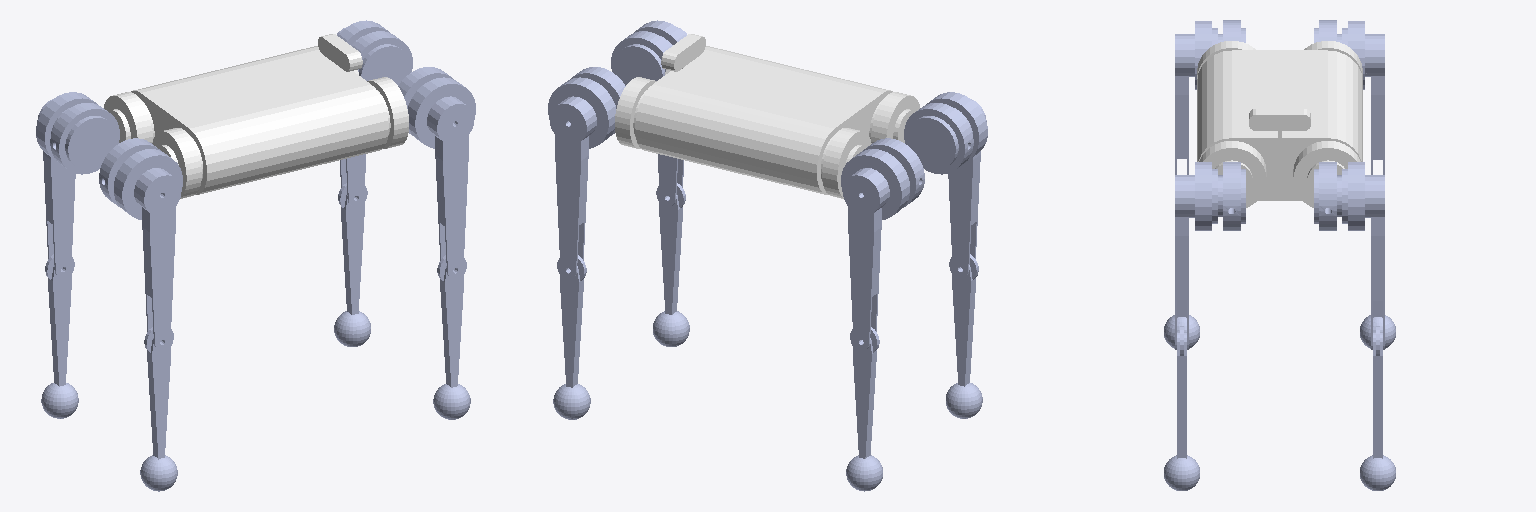
--- Render facts (derived) ---
The picture shows the robot from 3 angles, left to right: view 1: azimuth 30°, elevation 25°; view 2: azimuth 150°, elevation 25°; view 3: azimuth 270°, elevation 25°; orthographic projection.
Robot: quadruped — 18 links, 17 joints (12 continuous, 5 fixed); root link world; default pose: every joint at zero.
Links seen in each view (by area): view 1: base_link, RbL2, RfL2, LbL2, LbL1, LfL1, LfL3, RbL3, RfL3, LbL4, LfL2, LbL3 (+5 smaller); view 2: base_link, LbL2, LfL2, RbL2, RbL1, RfL1, LbL3, RfL3, RbL3, LfL3, RfL2, LfL4 (+5 smaller); view 3: base_link, LfL2, RfL2, LbL2, RbL2, RfL1, LfL1, LfL3, RfL3, RfL4, LfL4, RbL4 (+1 smaller).
Link boxes in pixels (<box>): base_link: <box>104,34,408,198</box>; RbL2: <box>114,149,182,350</box>; RfL2: <box>408,77,475,278</box>; LbL2: <box>36,92,97,277</box>; LbL1: <box>50,103,119,174</box>; LfL1: <box>352,31,412,85</box>; LfL3: <box>334,186,370,346</box>; RbL3: <box>141,330,176,491</box>; RfL3: <box>434,258,469,419</box>; LbL4: <box>41,254,78,409</box>; LfL2: <box>337,20,389,205</box>; LbL3: <box>42,260,77,418</box>; base_link: <box>615,34,919,198</box>; LbL2: <box>841,149,909,350</box>; LfL2: <box>548,77,615,278</box>; RbL2: <box>926,92,987,277</box>; RbL1: <box>904,103,973,174</box>; RfL1: <box>611,31,671,85</box>; LbL3: <box>847,332,882,491</box>; RfL3: <box>653,186,688,346</box>; RbL3: <box>946,259,981,418</box>; LfL3: <box>553,263,589,419</box>; RfL2: <box>634,20,686,205</box>; LfL4: <box>553,255,590,410</box>; base_link: <box>1197,41,1362,207</box>; LfL2: <box>1342,162,1384,349</box>; RfL2: <box>1175,162,1217,349</box>; LbL2: <box>1342,21,1384,174</box>; RbL2: <box>1175,21,1217,174</box>; RfL1: <box>1218,162,1245,230</box>; LfL1: <box>1314,162,1341,230</box>; LfL3: <box>1360,350,1395,490</box>; RfL3: <box>1164,350,1199,490</box>; RfL4: <box>1164,326,1199,481</box>; LfL4: <box>1360,326,1395,481</box>; RbL4: <box>1164,315,1199,339</box>.
Bounding box of the posed robot: 0.545 × 0.3142 × 0.519 m (x, y, z).
Meshes: 17 distinct files referenced, 17 mesh visuals loaded (17 binary STL).

URDF robot description (quadruped):
<?xml version="1.0" encoding="utf-8"?>
<!-- This URDF was automatically created by SolidWorks to URDF Exporter! Originally created by Stephen Brawner ([email redacted]) 
     Commit Version: 1.6.0-4-g7f85cfe  Build Version: 1.6.7995.38578
     For more information, please see http://wiki.ros.org/sw_urdf_exporter -->
<robot
  name="quadruped">
  <link
    name="base_link">
    <inertial>
      <origin
        xyz="0.00084087 -3.4694E-18 0.0034489"
        rpy="0 0 0" />
      <mass
        value="6.2588" />
      <inertia
        ixx="0.023799"
        ixy="-4.539E-19"
        ixz="-0.0003626"
        iyy="0.040023"
        iyz="9.0186E-20"
        izz="0.055397" />
    </inertial>
    <visual>
      <origin
        xyz="0 0 0"
        rpy="0 0 0" />
      <geometry>
        <mesh
          filename="package://quadruped/meshes/base_link.STL" />
      </geometry>
      <material
        name="">
        <color
          rgba="1 1 1 1" />
      </material>
    </visual>
    <collision>
      <origin
        xyz="0 0 0"
        rpy="0 0 0" />
      <geometry>
        <mesh
          filename="package://quadruped/meshes/base_link.STL" />
      </geometry>
    </collision>
  </link>
  <link
    name="RfL1">
    <inertial>
      <origin
        xyz="-1.4632E-09 0.0013606 -2.1089E-09"
        rpy="0 0 0" />
      <mass
        value="0.20892" />
      <inertia
        ixx="0.00012633"
        ixy="-2.9159E-11"
        ixz="1.474E-11"
        iyy="0.00020677"
        iyz="3.0595E-13"
        izz="0.00012096" />
    </inertial>
    <visual>
      <origin
        xyz="0 0 0"
        rpy="0 0 0" />
      <geometry>
        <mesh
          filename="package://quadruped/meshes/RfL1.STL" />
      </geometry>
      <material
        name="">
        <color
          rgba="0.79216 0.81961 0.93333 1" />
      </material>
    </visual>
    <collision>
      <origin
        xyz="0 0 0"
        rpy="0 0 0" />
      <geometry>
        <mesh
          filename="package://quadruped/meshes/RfL1.STL" />
      </geometry>
    </collision>
  </link>
  <joint
    name="RfJ1"
    type="continuous">
    <origin
      xyz="0.2255 -0.065 0.003"
      rpy="0 0 0" />
    <parent
      link="base_link" />
    <child
      link="RfL1" />
    <axis
      xyz="1 0 0" />
          <limit
      lower="-6"
      upper="6"
      effort="100"
      velocity="10" />
                 <dynamics
      damping="0.01"
      friction="0.01"
    />
  </joint>
  <link
    name="RfL2">
    <inertial>
      <origin
        xyz="-4.3615E-06 0.017625 -0.026198"
        rpy="0 0 0" />
      <mass
        value="0.03684" />
      <inertia
        ixx="0.00011211"
        ixy="-2.832E-09"
        ixz="-1.957E-08"
        iyy="0.00011432"
        iyz="-1.701E-05"
        izz="2.3445E-05" />
    </inertial>
    <visual>
      <origin
        xyz="0 0 0"
        rpy="0 0 0" />
      <geometry>
        <mesh
          filename="package://quadruped/meshes/RfL2.STL" />
      </geometry>
      <material
        name="">
        <color
          rgba="0.79216 0.81961 0.93333 1" />
      </material>
    </visual>
    <collision>
      <origin
        xyz="0 0 0"
        rpy="0 0 0" />
      <geometry>
        <mesh
          filename="package://quadruped/meshes/RfL2.STL" />
      </geometry>
    </collision>
  </link>
  <joint
    name="RfJ2"
    type="continuous">
    <origin
      xyz="0 -0.06725 0"
      rpy="0 0 0" />
    <parent
      link="RfL1" />
    <child
      link="RfL2" />
    <axis
      xyz="0 1 0" />
          <limit
      lower="-6"
      upper="6"
      effort="100"
      velocity="10" />
                 <dynamics
      damping="0.01"
      friction="0.01"
    />
  </joint>
  <link
    name="RfL3">
    <inertial>
      <origin
        xyz="-8.3225E-05 -1.7847E-14 -0.13449"
        rpy="0 0 0" />
      <mass
        value="0.012147" />
      <inertia
        ixx="6.9843E-05"
        ixy="-5.131E-15"
        ixz="-4.1969E-08"
        iyy="7.0059E-05"
        iyz="-1.6876E-18"
        izz="2.0251E-06" />
    </inertial>
    <visual>
      <origin
        xyz="0 0 0"
        rpy="0 0 0" />
      <geometry>
        <mesh
          filename="package://quadruped/meshes/RfL3.STL" />
      </geometry>
      <material
        name="">
        <color
          rgba="0.79216 0.81961 0.93333 1" />
      </material>
    </visual>
    <collision>
      <origin
        xyz="0 0 0"
        rpy="0 0 0" />
      <geometry>
        <mesh
          filename="package://quadruped/meshes/RfL3.STL" />
      </geometry>
    </collision>
  </link>
  <joint
    name="RfJ3"
    type="continuous">
    <origin
      xyz="0 0 -0.216"
      rpy="0 0 0" />
    <parent
      link="RfL2" />
    <child
      link="RfL3" />
    <axis
      xyz="0 -1 0" />
          <limit
      lower="-6"
      upper="6"
      effort="100"
      velocity="10" />
                 <dynamics
      damping="0.01"
      friction="0.01"
    />
  </joint>
  <link
    name="RfL4">
    <inertial>
      <origin
        xyz="3.8349E-05 -1.7777E-14 0.061968"
        rpy="0 0 0" />
      <mass
        value="0.012147" />
      <inertia
        ixx="6.9843E-05"
        ixy="-5.131E-15"
        ixz="-4.1969E-08"
        iyy="7.0059E-05"
        iyz="-1.6876E-18"
        izz="2.0251E-06" />
    </inertial>
    <visual>
      <origin
        xyz="0 0 0"
        rpy="0 0 0" />
      <geometry>
        <mesh
          filename="package://quadruped/meshes/RfL4.STL" />
      </geometry>
      <material
        name="">
        <color
          rgba="0.79216 0.81961 0.93333 1" />
      </material>
    </visual>
    <collision>
      <origin
        xyz="0 0 0"
        rpy="0 0 0" />
      <geometry>
        <mesh
          filename="package://quadruped/meshes/RfL4.STL" />
      </geometry>
    </collision>
  </link>
  <joint
    name="RfJ4"
    type="fixed">
    <origin
      xyz="-0.00012157 0 -0.19645"
      rpy="0 0 0" />
    <parent
      link="RfL3" />
    <child
      link="RfL4" />
    <axis
      xyz="0 0 0" />
          <limit
      lower="-6"
      upper="6"
      effort="100"
      velocity="10" />
                 <dynamics
      damping="0.01"
      friction="0.01"
    />
  </joint>
  <link
    name="LfL1">
    <inertial>
      <origin
        xyz="-1.4632E-09 -0.0013606 2.1089E-09"
        rpy="0 0 0" />
      <mass
        value="0.20892" />
      <inertia
        ixx="0.00012633"
        ixy="2.9159E-11"
        ixz="-1.474E-11"
        iyy="0.00020677"
        iyz="3.0595E-13"
        izz="0.00012096" />
    </inertial>
    <visual>
      <origin
        xyz="0 0 0"
        rpy="0 0 0" />
      <geometry>
        <mesh
          filename="package://quadruped/meshes/LfL1.STL" />
      </geometry>
      <material
        name="">
        <color
          rgba="0.79216 0.81961 0.93333 1" />
      </material>
    </visual>
    <collision>
      <origin
        xyz="0 0 0"
        rpy="0 0 0" />
      <geometry>
        <mesh
          filename="package://quadruped/meshes/LfL1.STL" />
      </geometry>
    </collision>
  </link>
  <joint
    name="LfJ1"
    type="continuous">
    <origin
      xyz="0.2255 0.065 0.003"
      rpy="0 0 0" />
    <parent
      link="base_link" />
    <child
      link="LfL1" />
    <axis
      xyz="1 0 0" />
          <limit
      lower="-6"
      upper="6"
      effort="100"
      velocity="10" />
                 <dynamics
      damping="0.01"
      friction="0.01"
    />
  </joint>
  <link
    name="LfL2">
    <inertial>
      <origin
        xyz="4.3615E-06 -0.017625 -0.026198"
        rpy="0 0 0" />
      <mass
        value="0.03684" />
      <inertia
        ixx="0.00011211"
        ixy="-2.832E-09"
        ixz="1.957E-08"
        iyy="0.00011432"
        iyz="1.701E-05"
        izz="2.3445E-05" />
    </inertial>
    <visual>
      <origin
        xyz="0 0 0"
        rpy="0 0 0" />
      <geometry>
        <mesh
          filename="package://quadruped/meshes/LfL2.STL" />
      </geometry>
      <material
        name="">
        <color
          rgba="0.79216 0.81961 0.93333 1" />
      </material>
    </visual>
    <collision>
      <origin
        xyz="0 0 0"
        rpy="0 0 0" />
      <geometry>
        <mesh
          filename="package://quadruped/meshes/LfL2.STL" />
      </geometry>
    </collision>
  </link>
  <joint
    name="LfJ2"
    type="continuous">
    <origin
      xyz="0 0.06725 0"
      rpy="0 0 0" />
    <parent
      link="LfL1" />
    <child
      link="LfL2" />
    <axis
      xyz="0 -1 0" />
          <limit
      lower="-6"
      upper="6"
      effort="100"
      velocity="10" />
                 <dynamics
      damping="0.01"
      friction="0.01"
    />
  </joint>
  <link
    name="LfL3">
    <inertial>
      <origin
        xyz="-0.00015249 -3.3556E-14 -0.13449"
        rpy="0 0 0" />
      <mass
        value="0.012147" />
      <inertia
        ixx="6.9843E-05"
        ixy="-5.131E-15"
        ixz="-7.6896E-08"
        iyy="7.0059E-05"
        iyz="-3.551E-18"
        izz="2.0251E-06" />
    </inertial>
    <visual>
      <origin
        xyz="0 0 0"
        rpy="0 0 0" />
      <geometry>
        <mesh
          filename="package://quadruped/meshes/LfL3.STL" />
      </geometry>
      <material
        name="">
        <color
          rgba="0.79216 0.81961 0.93333 1" />
      </material>
    </visual>
    <collision>
      <origin
        xyz="0 0 0"
        rpy="0 0 0" />
      <geometry>
        <mesh
          filename="package://quadruped/meshes/LfL3.STL" />
      </geometry>
    </collision>
  </link>
  <joint
    name="LfJ3"
    type="continuous">
    <origin
      xyz="0 0 -0.216"
      rpy="0 0 0" />
    <parent
      link="LfL2" />
    <child
      link="LfL3" />
    <axis
      xyz="0 1 0" />
          <limit
      lower="-6"
      upper="6"
      effort="100"
      velocity="10" />
                 <dynamics
      damping="0.01"
      friction="0.01"
    />
  </joint>
  <link
    name="LfL4">
    <inertial>
      <origin
        xyz="7.0263E-05 -3.2113E-14 0.061968"
        rpy="0 0 0" />
      <mass
        value="0.012147" />
      <inertia
        ixx="6.9843E-05"
        ixy="-5.131E-15"
        ixz="-7.6896E-08"
        iyy="7.0059E-05"
        iyz="-3.551E-18"
        izz="2.0251E-06" />
    </inertial>
    <visual>
      <origin
        xyz="0 0 0"
        rpy="0 0 0" />
      <geometry>
        <mesh
          filename="package://quadruped/meshes/LfL4.STL" />
      </geometry>
      <material
        name="">
        <color
          rgba="0.79216 0.81961 0.93333 1" />
      </material>
    </visual>
    <collision>
      <origin
        xyz="0 0 0"
        rpy="0 0 0" />
      <geometry>
        <mesh
          filename="package://quadruped/meshes/LfL4.STL" />
      </geometry>
    </collision>
  </link>
  <joint
    name="LfJ4"
    type="fixed">
    <origin
      xyz="-0.00022275 0 -0.19645"
      rpy="0 0 0" />
    <parent
      link="LfL3" />
    <child
      link="LfL4" />
    <axis
      xyz="0 0 0" />
          <limit
      lower="-6"
      upper="6"
      effort="100"
      velocity="10" />
                 <dynamics
      damping="0.01"
      friction="0.01"
    />
  </joint>
  <link
    name="RbL1">
    <inertial>
      <origin
        xyz="1.4632E-09 0.0013606 2.1089E-09"
        rpy="0 0 0" />
      <mass
        value="0.20892" />
      <inertia
        ixx="0.00012633"
        ixy="2.9159E-11"
        ixz="1.474E-11"
        iyy="0.00020677"
        iyz="-3.0595E-13"
        izz="0.00012096" />
    </inertial>
    <visual>
      <origin
        xyz="0 0 0"
        rpy="0 0 0" />
      <geometry>
        <mesh
          filename="package://quadruped/meshes/RbL1.STL" />
      </geometry>
      <material
        name="">
        <color
          rgba="0.79216 0.81961 0.93333 1" />
      </material>
    </visual>
    <collision>
      <origin
        xyz="0 0 0"
        rpy="0 0 0" />
      <geometry>
        <mesh
          filename="package://quadruped/meshes/RbL1.STL" />
      </geometry>
    </collision>
  </link>
  <joint
    name="RbJ1"
    type="continuous">
    <origin
      xyz="-0.2255 -0.065 0.003"
      rpy="0 0 0" />
    <parent
      link="base_link" />
    <child
      link="RbL1" />
    <axis
      xyz="-1 0 0" />
          <limit
      lower="-6"
      upper="6"
      effort="100"
      velocity="10" />
                 <dynamics
      damping="0.01"
      friction="0.01"
    />
  </joint>
  <link
    name="RbL2">
    <inertial>
      <origin
        xyz="-4.3615E-06 0.017625 -0.026198"
        rpy="0 0 0" />
      <mass
        value="0.03684" />
      <inertia
        ixx="0.00011211"
        ixy="-2.832E-09"
        ixz="-1.957E-08"
        iyy="0.00011432"
        iyz="-1.701E-05"
        izz="2.3445E-05" />
    </inertial>
    <visual>
      <origin
        xyz="0 0 0"
        rpy="0 0 0" />
      <geometry>
        <mesh
          filename="package://quadruped/meshes/RbL2.STL" />
      </geometry>
      <material
        name="">
        <color
          rgba="0.79216 0.81961 0.93333 1" />
      </material>
    </visual>
    <collision>
      <origin
        xyz="0 0 0"
        rpy="0 0 0" />
      <geometry>
        <mesh
          filename="package://quadruped/meshes/RbL2.STL" />
      </geometry>
    </collision>
  </link>
  <joint
    name="RbJ2"
    type="continuous">
    <origin
      xyz="0 -0.06725 0"
      rpy="0 0 0" />
    <parent
      link="RbL1" />
    <child
      link="RbL2" />
    <axis
      xyz="0 1 0" />
          <limit
      lower="-6"
      upper="6"
      effort="100"
      velocity="10" />
                 <dynamics
      damping="0.01"
      friction="0.01"
    />
  </joint>
  <link
    name="RbL3">
    <inertial>
      <origin
        xyz="-4.4688E-05 -9.4924E-15 -0.13449"
        rpy="0 0 0" />
      <mass
        value="0.012147" />
      <inertia
        ixx="6.9843E-05"
        ixy="-5.131E-15"
        ixz="-2.2535E-08"
        iyy="7.0059E-05"
        iyz="-8.7351E-19"
        izz="2.025E-06" />
    </inertial>
    <visual>
      <origin
        xyz="0 0 0"
        rpy="0 0 0" />
      <geometry>
        <mesh
          filename="package://quadruped/meshes/RbL3.STL" />
      </geometry>
      <material
        name="">
        <color
          rgba="0.79216 0.81961 0.93333 1" />
      </material>
    </visual>
    <collision>
      <origin
        xyz="0 0 0"
        rpy="0 0 0" />
      <geometry>
        <mesh
          filename="package://quadruped/meshes/RbL3.STL" />
      </geometry>
    </collision>
  </link>
  <joint
    name="RbJ3"
    type="continuous">
    <origin
      xyz="0 0 -0.216"
      rpy="0 0 0" />
    <parent
      link="RbL2" />
    <child
      link="RbL3" />
    <axis
      xyz="0 -1 0" />
          <limit
      lower="-6"
      upper="6"
      effort="100"
      velocity="10" />
                 <dynamics
      damping="0.01"
      friction="0.01"
    />
  </joint>
  <link
    name="RbL4">
    <inertial>
      <origin
        xyz="2.0591E-05 -9.5618E-15 0.061968"
        rpy="0 0 0" />
      <mass
        value="0.012147" />
      <inertia
        ixx="6.9843E-05"
        ixy="-5.131E-15"
        ixz="-2.2535E-08"
        iyy="7.0059E-05"
        iyz="-8.7353E-19"
        izz="2.025E-06" />
    </inertial>
    <visual>
      <origin
        xyz="0 0 0"
        rpy="0 0 0" />
      <geometry>
        <mesh
          filename="package://quadruped/meshes/RbL4.STL" />
      </geometry>
      <material
        name="">
        <color
          rgba="0.79216 0.81961 0.93333 1" />
      </material>
    </visual>
    <collision>
      <origin
        xyz="0 0 0"
        rpy="0 0 0" />
      <geometry>
        <mesh
          filename="package://quadruped/meshes/RbL4.STL" />
      </geometry>
    </collision>
  </link>
  <joint
    name="RbJ4"
    type="fixed">
    <origin
      xyz="-6.528E-05 0 -0.19645"
      rpy="0 0 0" />
    <parent
      link="RbL3" />
    <child
      link="RbL4" />
    <axis
      xyz="0 0 0" />
          <limit
      lower="-6"
      upper="6"
      effort="100"
      velocity="10" />
                 <dynamics
      damping="0.01"
      friction="0.01"
    />
  </joint>
  <link
    name="LbL1">
    <inertial>
      <origin
        xyz="1.4632E-09 -0.0013606 -2.1089E-09"
        rpy="0 0 0" />
      <mass
        value="0.20892" />
      <inertia
        ixx="0.00012633"
        ixy="-2.9159E-11"
        ixz="-1.474E-11"
        iyy="0.00020677"
        iyz="-3.0595E-13"
        izz="0.00012096" />
    </inertial>
    <visual>
      <origin
        xyz="0 0 0"
        rpy="0 0 0" />
      <geometry>
        <mesh
          filename="package://quadruped/meshes/LbL1.STL" />
      </geometry>
      <material
        name="">
        <color
          rgba="0.79216 0.81961 0.93333 1" />
      </material>
    </visual>
    <collision>
      <origin
        xyz="0 0 0"
        rpy="0 0 0" />
      <geometry>
        <mesh
          filename="package://quadruped/meshes/LbL1.STL" />
      </geometry>
    </collision>
  </link>
  <joint
    name="LbJ1"
    type="continuous">
    <origin
      xyz="-0.2255 0.065 0.003"
      rpy="0 0 0" />
    <parent
      link="base_link" />
    <child
      link="LbL1" />
    <axis
      xyz="-1 0 0" />
          <limit
      lower="-6"
      upper="6"
      effort="100"
      velocity="10" />
                 <dynamics
      damping="0.01"
      friction="0.01"
    />
  </joint>
  <link
    name="LbL2">
    <inertial>
      <origin
        xyz="4.3615E-06 -0.017625 -0.026198"
        rpy="0 0 0" />
      <mass
        value="0.03684" />
      <inertia
        ixx="0.00011211"
        ixy="-2.832E-09"
        ixz="1.957E-08"
        iyy="0.00011432"
        iyz="1.701E-05"
        izz="2.3445E-05" />
    </inertial>
    <visual>
      <origin
        xyz="0 0 0"
        rpy="0 0 0" />
      <geometry>
        <mesh
          filename="package://quadruped/meshes/LbL2.STL" />
      </geometry>
      <material
        name="">
        <color
          rgba="0.79216 0.81961 0.93333 1" />
      </material>
    </visual>
    <collision>
      <origin
        xyz="0 0 0"
        rpy="0 0 0" />
      <geometry>
        <mesh
          filename="package://quadruped/meshes/LbL2.STL" />
      </geometry>
    </collision>
  </link>
  <joint
    name="LbJ2"
    type="continuous">
    <origin
      xyz="0 0.06725 0"
      rpy="0 0 0" />
    <parent
      link="LbL1" />
    <child
      link="LbL2" />
    <axis
      xyz="0 -1 0" />
                <limit
      lower="-6"
      upper="6"
      effort="100"
      velocity="10" />
                 <dynamics
      damping="0.01"
      friction="0.01"
    />
  </joint>
  <link
    name="LbL3">
    <inertial>
      <origin
        xyz="0.00011183 2.3037E-14 -0.13449"
        rpy="0 0 0" />
      <mass
        value="0.012147" />
      <inertia
        ixx="6.9843E-05"
        ixy="-5.131E-15"
        ixz="5.6393E-08"
        iyy="7.0059E-05"
        iyz="1.7864E-18"
        izz="2.0251E-06" />
    </inertial>
    <visual>
      <origin
        xyz="0 0 0"
        rpy="0 0 0" />
      <geometry>
        <mesh
          filename="package://quadruped/meshes/LbL3.STL" />
      </geometry>
      <material
        name="">
        <color
          rgba="0.79216 0.81961 0.93333 1" />
      </material>
    </visual>
    <collision>
      <origin
        xyz="0 0 0"
        rpy="0 0 0" />
      <geometry>
        <mesh
          filename="package://quadruped/meshes/LbL3.STL" />
      </geometry>
    </collision>
  </link>
  <joint
    name="LbJ3"
    type="continuous">
    <origin
      xyz="0 0 -0.216"
      rpy="0 0 0" />
    <parent
      link="LbL2" />
    <child
      link="LbL3" />
    <axis
      xyz="0 1 0" />
                <limit
      lower="-6"
      upper="6"
      effort="100"
      velocity="10" />
                 <dynamics
      damping="0.01"
      friction="0.01"
    />
  </joint>
  <link
    name="LbL4">
    <inertial>
      <origin
        xyz="-5.1528E-05 2.4342E-14 0.061968"
        rpy="0 0 0" />
      <mass
        value="0.012147" />
      <inertia
        ixx="6.9843E-05"
        ixy="-5.131E-15"
        ixz="5.6393E-08"
        iyy="7.0059E-05"
        iyz="1.7864E-18"
        izz="2.0251E-06" />
    </inertial>
    <visual>
      <origin
        xyz="0 0 0"
        rpy="0 0 0" />
      <geometry>
        <mesh
          filename="package://quadruped/meshes/LbL4.STL" />
      </geometry>
      <material
        name="">
        <color
          rgba="0.79216 0.81961 0.93333 1" />
      </material>
    </visual>
    <collision>
      <origin
        xyz="0 0 0"
        rpy="0 0 0" />
      <geometry>
        <mesh
          filename="package://quadruped/meshes/LbL4.STL" />
      </geometry>
    </collision>
  </link>
  <joint
    name="LbJ4"
    type="fixed">
    <origin
      xyz="0.00016336 0 -0.19645"
      rpy="0 0 0" />
    <parent
      link="LbL3" />
    <child
      link="LbL4" />
    <axis
      xyz="0 0 0" />
          <limit
      lower="-6"
      upper="6"
      effort="100"
      velocity="10" />
                 <dynamics
      damping="0.01"
      friction="0.01"
    />
  </joint>

<transmission name="trans_RfJ1">
        <type>transmission_interface/SimpleTransmission</type>
        <joint name="RfJ1">
            <hardwareInterface>hardware_interface/EffortJointInterface</hardwareInterface>
        </joint>
        <actuator name="RfJ1_motor">
            <hardwareInterface>hardware_interface/EffortJointInterface</hardwareInterface>
            <mechanicalReduction>1</mechanicalReduction>
        </actuator>
    </transmission>

<transmission name="trans_RfJ2">
        <type>transmission_interface/SimpleTransmission</type>
        <joint name="RfJ2">
            <hardwareInterface>hardware_interface/EffortJointInterface</hardwareInterface>
        </joint>
        <actuator name="RfJ2_motor">
            <hardwareInterface>hardware_interface/EffortJointInterface</hardwareInterface>
            <mechanicalReduction>1</mechanicalReduction>
        </actuator>
    </transmission>

<transmission name="trans_RfJ3">
        <type>transmission_interface/SimpleTransmission</type>
        <joint name="RfJ3">
            <hardwareInterface>hardware_interface/EffortJointInterface</hardwareInterface>
        </joint>
        <actuator name="RfJ3_motor">
            <hardwareInterface>hardware_interface/EffortJointInterface</hardwareInterface>
            <mechanicalReduction>1</mechanicalReduction>
        </actuator>
    </transmission>

<transmission name="trans_RbJ1">
        <type>transmission_interface/SimpleTransmission</type>
        <joint name="RbJ1">
            <hardwareInterface>hardware_interface/EffortJointInterface</hardwareInterface>
        </joint>
        <actuator name="RbJ1_motor">
            <hardwareInterface>hardware_interface/EffortJointInterface</hardwareInterface>
            <mechanicalReduction>1</mechanicalReduction>
        </actuator>
    </transmission>

<transmission name="trans_RbJ2">
        <type>transmission_interface/SimpleTransmission</type>
        <joint name="RbJ2">
            <hardwareInterface>hardware_interface/EffortJointInterface</hardwareInterface>
        </joint>
        <actuator name="RbJ2_motor">
            <hardwareInterface>hardware_interface/EffortJointInterface</hardwareInterface>
            <mechanicalReduction>1</mechanicalReduction>
        </actuator>
    </transmission>

<transmission name="trans_RbJ3">
        <type>transmission_interface/SimpleTransmission</type>
        <joint name="RbJ3">
            <hardwareInterface>hardware_interface/EffortJointInterface</hardwareInterface>
        </joint>
        <actuator name="RbJ3_motor">
            <hardwareInterface>hardware_interface/EffortJointInterface</hardwareInterface>
            <mechanicalReduction>1</mechanicalReduction>
        </actuator>
    </transmission>

<transmission name="trans_LfJ1">
        <type>transmission_interface/SimpleTransmission</type>
        <joint name="LfJ1">
            <hardwareInterface>hardware_interface/EffortJointInterface</hardwareInterface>
        </joint>
        <actuator name="LfJ1_motor">
            <hardwareInterface>hardware_interface/EffortJointInterface</hardwareInterface>
            <mechanicalReduction>1</mechanicalReduction>
        </actuator>
    </transmission>

<transmission name="trans_LfJ2">
        <type>transmission_interface/SimpleTransmission</type>
        <joint name="LfJ2">
            <hardwareInterface>hardware_interface/EffortJointInterface</hardwareInterface>
        </joint>
        <actuator name="LfJ2_motor">
            <hardwareInterface>hardware_interface/EffortJointInterface</hardwareInterface>
            <mechanicalReduction>1</mechanicalReduction>
        </actuator>
    </transmission>

<transmission name="trans_LfJ3">
        <type>transmission_interface/SimpleTransmission</type>
        <joint name="LfJ3">
            <hardwareInterface>hardware_interface/EffortJointInterface</hardwareInterface>
        </joint>
        <actuator name="LfJ3_motor">
            <hardwareInterface>hardware_interface/EffortJointInterface</hardwareInterface>
            <mechanicalReduction>1</mechanicalReduction>
        </actuator>
    </transmission>
  
<transmission name="trans_LbJ1">
        <type>transmission_interface/SimpleTransmission</type>
        <joint name="LbJ1">
            <hardwareInterface>hardware_interface/EffortJointInterface</hardwareInterface>
        </joint>
        <actuator name="LbJ1_motor">
            <hardwareInterface>hardware_interface/EffortJointInterface</hardwareInterface>
            <mechanicalReduction>1</mechanicalReduction>
        </actuator>
    </transmission>

<transmission name="trans_LbJ2">
        <type>transmission_interface/SimpleTransmission</type>
        <joint name="LbJ2">
            <hardwareInterface>hardware_interface/EffortJointInterface</hardwareInterface>
        </joint>
        <actuator name="LbJ2_motor">
            <hardwareInterface>hardware_interface/EffortJointInterface</hardwareInterface>
            <mechanicalReduction>1</mechanicalReduction>
        </actuator>
    </transmission>

<transmission name="trans_LbJ3">
        <type>transmission_interface/SimpleTransmission</type>
        <joint name="LbJ3">
            <hardwareInterface>hardware_interface/EffortJointInterface</hardwareInterface>
        </joint>
        <actuator name="LbJ3_motor">
            <hardwareInterface>hardware_interface/EffortJointInterface</hardwareInterface>
            <mechanicalReduction>1</mechanicalReduction>
        </actuator>
    </transmission>

  <gazebo>
    <plugin name="imu_plugin" filename="libgazebo_ros_imu.so">
  	  <alwaysOn>true</alwaysOn>
    	<bodyName>base_link</bodyName>
    	<topicName>imu</topicName>
    	<serviceName>imu_service</serviceName>
    	<gaussianNoise>0.0</gaussianNoise>
      <xyzOffset>0 0 0</xyzOffset>
      <rpyOffset>0 0 0</rpyOffset>
      <frameName>base_link</frameName>
    	<updateRate>500.0</updateRate>
    </plugin>

    <plugin name="POS_COM" filename="libgazebo_ros_p3d.so">
      <alwaysOn>true</alwaysOn>
      <updateRate>500.0</updateRate>
      <bodyName>base_link</bodyName>
      <topicName>POS_COM</topicName>
      <gaussianNoise>0.0</gaussianNoise>
      <frameName>map</frameName>
      <xyzOffsets>0 0 0</xyzOffsets>
      <rpyOffsets>0 0 0</rpyOffsets>
    </plugin>
  </gazebo>

  <!-- fix the model  -->
  <link name="world"/>
  <joint name="fix" type="fixed">
  <origin xyz="0 0 0.5" rpy="0 0 0"/>
  <parent link="world"/>
  <child link="base_link"/> 
  </joint>

  <gazebo>
        <plugin name="gazebo_ros_control" filename="libgazebo_ros_control.so">
            <robotNamespace>/quadruped</robotNamespace>
            <robotSimType>gazebo_ros_control/DefaultRobotHWSim</robotSimType>
        </plugin>
  </gazebo>

</robot>
